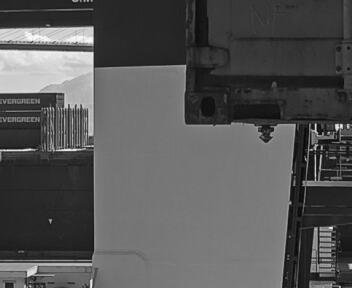twist_lock_2: (209, 121, 234, 145)
